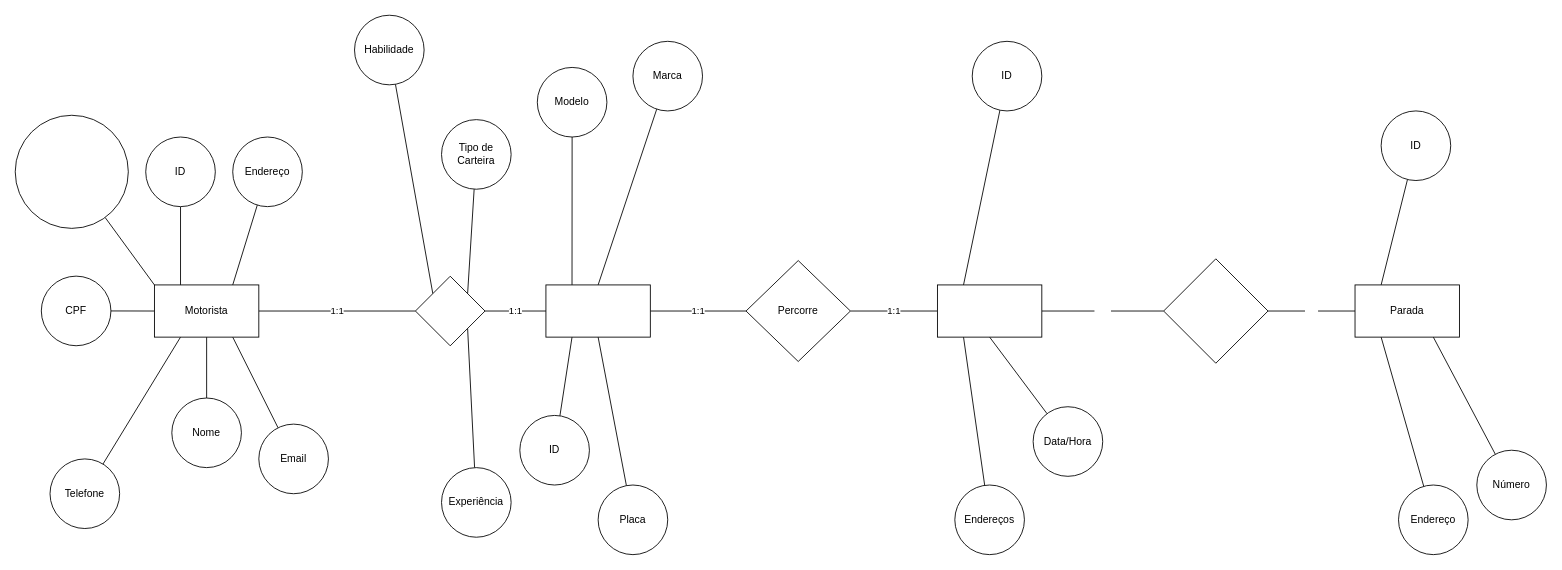
Some shapes in this 1562 by 570 pixel diagram are drawn without their labels. Each missing label, with the centre of its shape:
"Carteira_motorista" belongs at (71,171).
"Chega" belongs at (1215,310).
"Dirige" belongs at (450,310).
"Rota" belongs at (989,310).
"Ônibus" belongs at (597,310).
